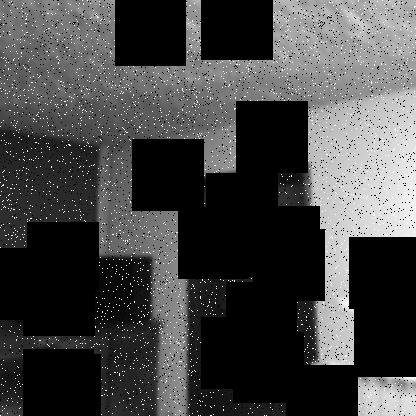Porte: (185, 160, 324, 416)
